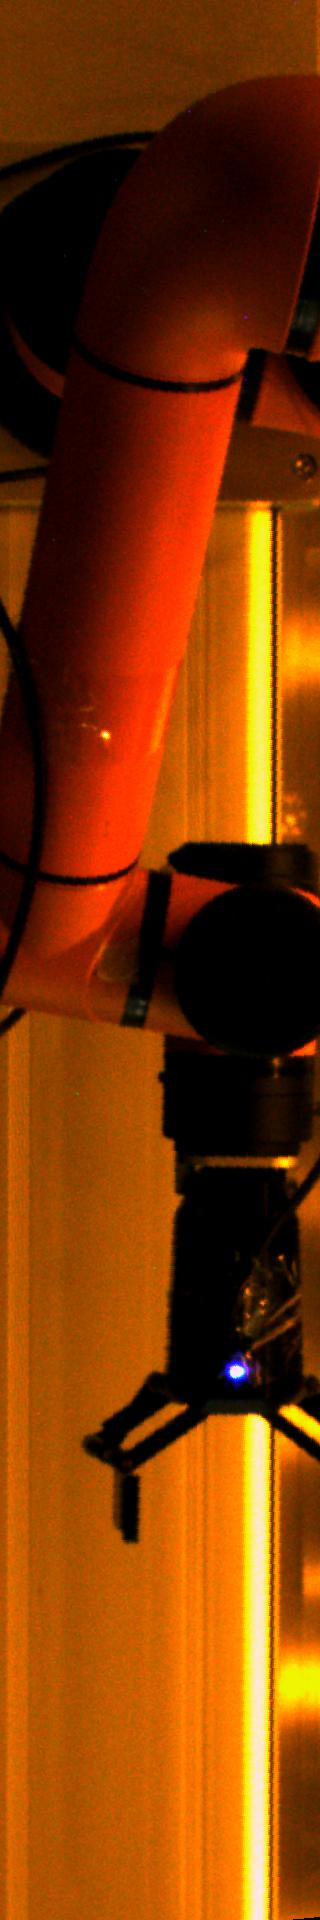keyPoint_1: (221, 1353, 251, 1382)
